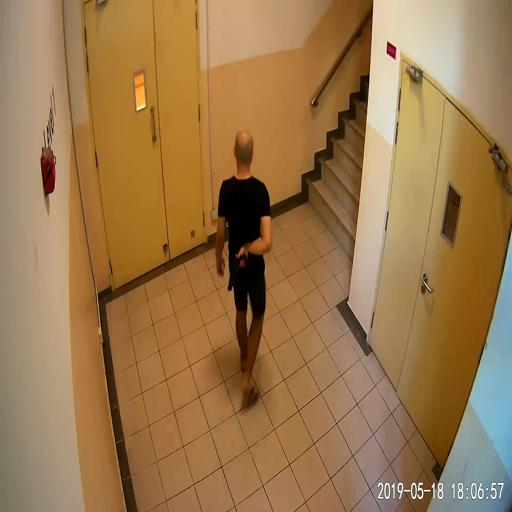pistol: (227, 247, 246, 291)
